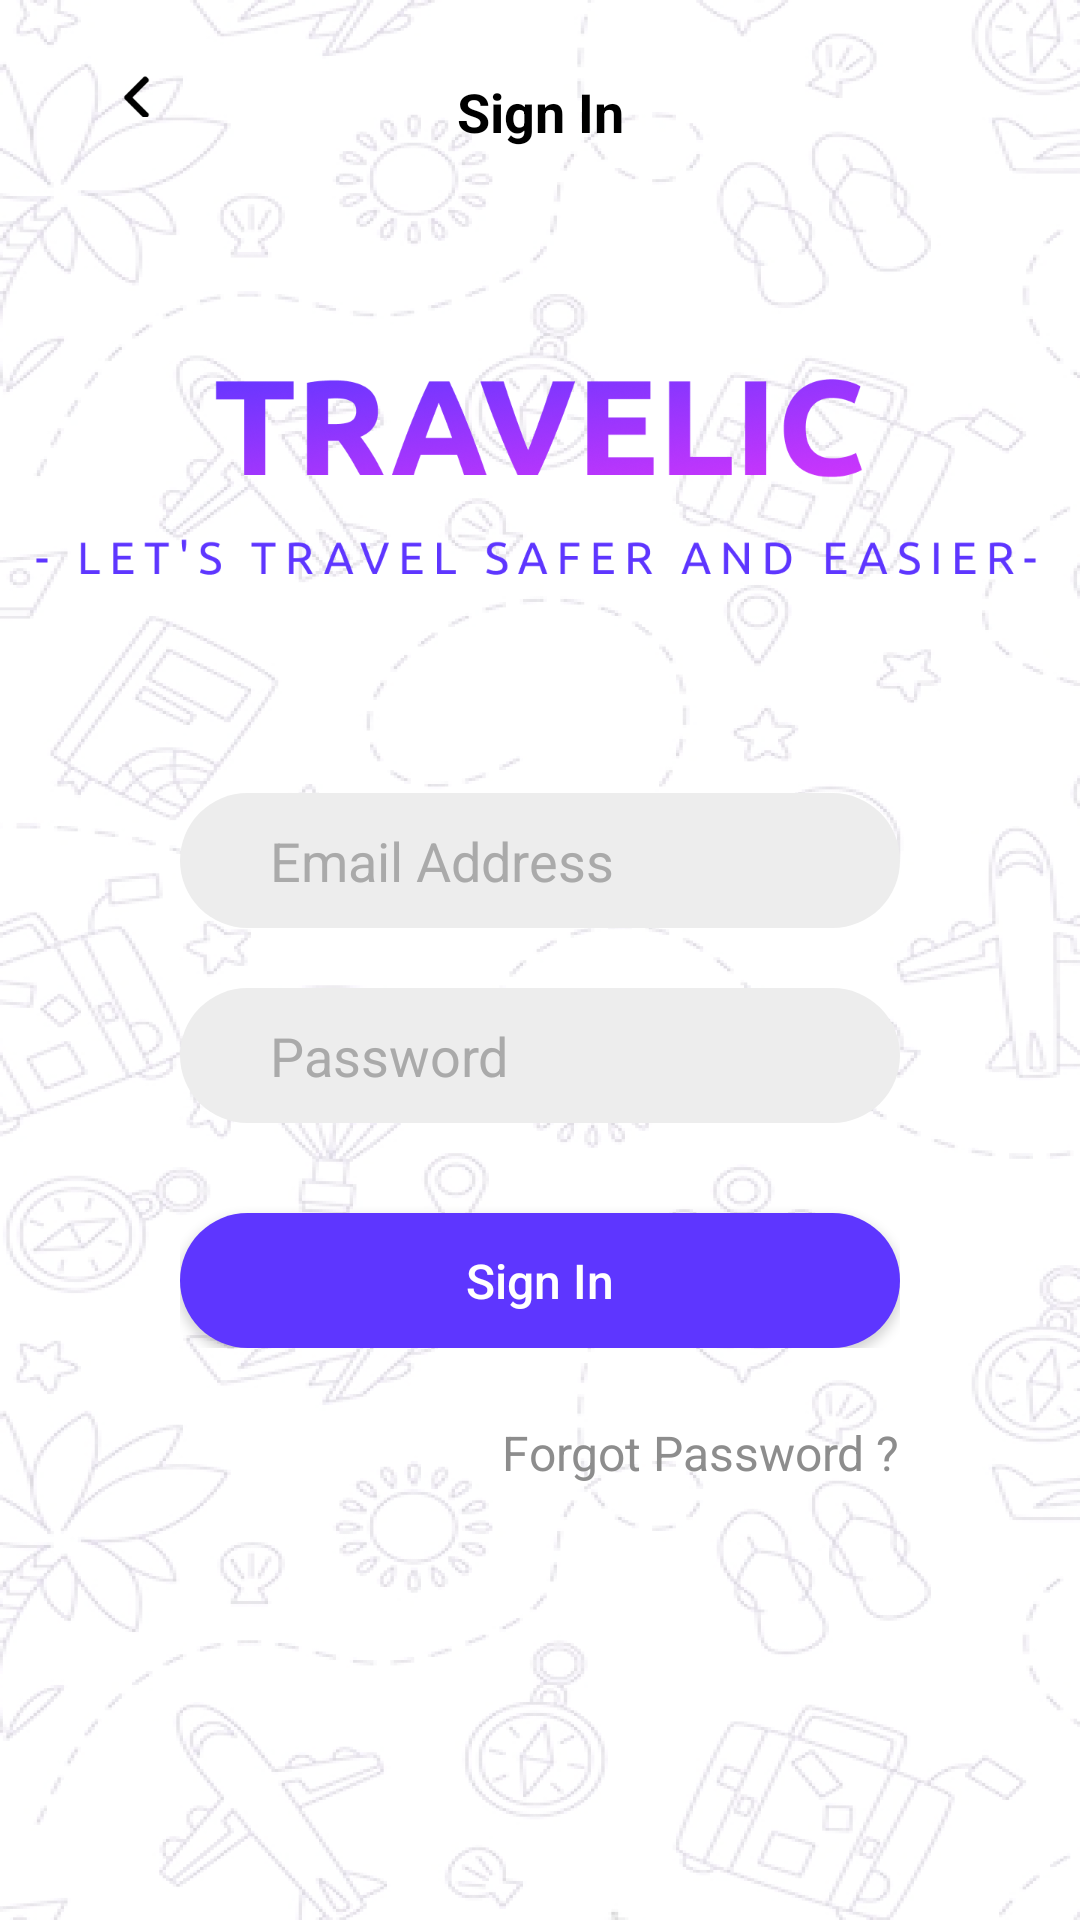

Point at icon controls on the screen. Image size 1080w x 1920h, points as (x,y).
back: (133,96)
